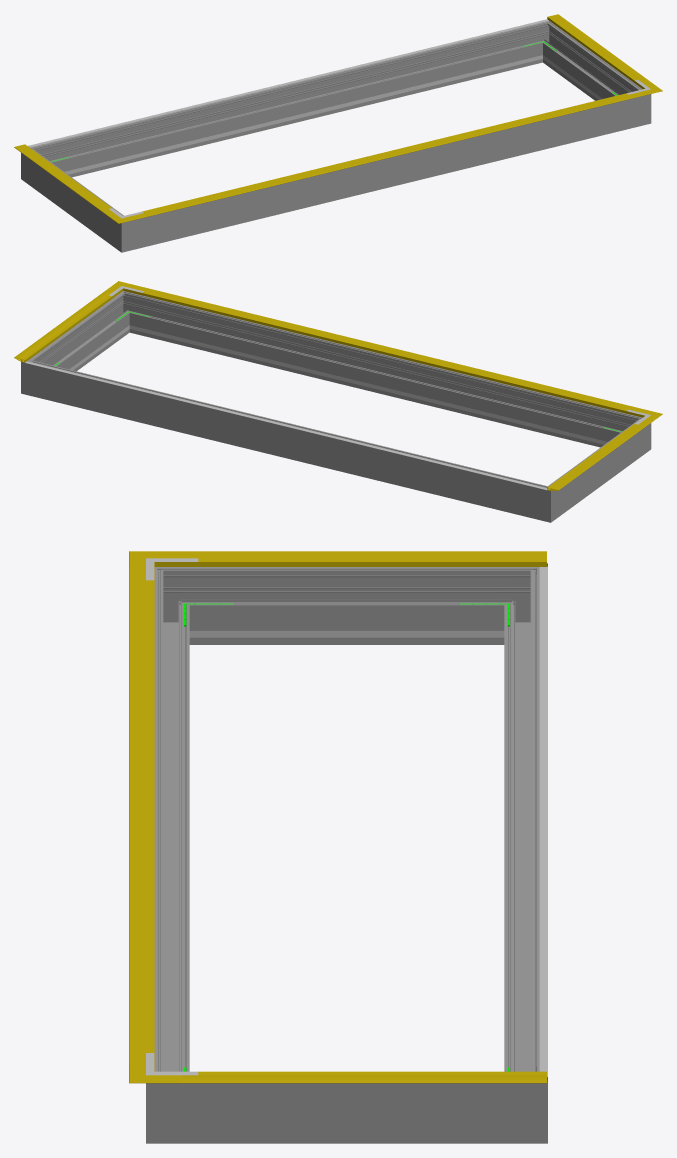
3 renders of one model, top to bottom at view 1: azimuth 30°, elevation 25°; view 2: azimuth 150°, elevation 25°; view 3: azimuth 270°, elevation 25°, orthographic. The views are drawn at different scales.
Visible parts, largest first — view 1: 3DGeom-276, 3DGeom-298, 3DGeom-297, 3DGeom-141, 3DGeom-268, 3DGeom-244, 3DGeom-220, 3DGeom-158, 3DGeom-270, 3DGeom-145, 3DGeom-290, 3DGeom-147 (+4 smaller); view 2: 3DGeom-298, 3DGeom-276, 3DGeom-141, 3DGeom-297, 3DGeom-268, 3DGeom-239, 3DGeom-220, 3DGeom-158, 3DGeom-278, 3DGeom-145, 3DGeom-284, 3DGeom-147 (+4 smaller); view 3: 3DGeom-268, 3DGeom-297, 3DGeom-276, 3DGeom-298, 3DGeom-141, 3DGeom-147, 3DGeom-220, 3DGeom-158, 3DGeom-284, 3DGeom-290, 3DGeom-145, 3DGeom-278 (+4 smaller).
Boxes of the visible parts, x1,y1,x2,y2 form: 3DGeom-276: (46, 25, 538, 177); 3DGeom-298: (144, 99, 628, 246); 3DGeom-297: (545, 29, 634, 100); 3DGeom-141: (137, 93, 640, 218); 3DGeom-268: (34, 155, 115, 242); 3DGeom-244: (72, 60, 520, 173); 3DGeom-220: (28, 19, 548, 147); 3DGeom-158: (142, 93, 628, 212); 3DGeom-270: (108, 210, 144, 252); 3DGeom-145: (547, 14, 649, 85); 3DGeom-290: (628, 83, 651, 128); 3DGeom-147: (14, 145, 112, 213); 3DGeom-298: (133, 295, 626, 447); 3DGeom-276: (43, 364, 532, 517); 3DGeom-141: (134, 286, 639, 415); 3DGeom-297: (38, 299, 127, 371); 3DGeom-268: (557, 425, 638, 512); 3DGeom-239: (151, 330, 599, 443); 3DGeom-220: (25, 361, 547, 489); 3DGeom-158: (142, 291, 628, 410); 3DGeom-278: (528, 480, 563, 522); 3DGeom-145: (14, 290, 116, 362); 3DGeom-284: (21, 353, 47, 398); 3DGeom-147: (547, 421, 649, 490); 3DGeom-268: (198, 567, 495, 644); 3DGeom-297: (198, 1083, 495, 1143); 3DGeom-276: (504, 585, 539, 1071); 3DGeom-298: (154, 585, 189, 1071); 3DGeom-141: (129, 573, 154, 1060); 3DGeom-147: (181, 551, 546, 566); 3DGeom-220: (539, 566, 547, 1077); 3DGeom-158: (146, 580, 154, 1052); 3DGeom-284: (495, 1058, 547, 1143); 3DGeom-290: (146, 1058, 198, 1143); 3DGeom-145: (181, 1075, 546, 1083); 3DGeom-278: (495, 563, 547, 644).
Size of the model in its own units: 3.66 by 0.2195 by 1.22.
